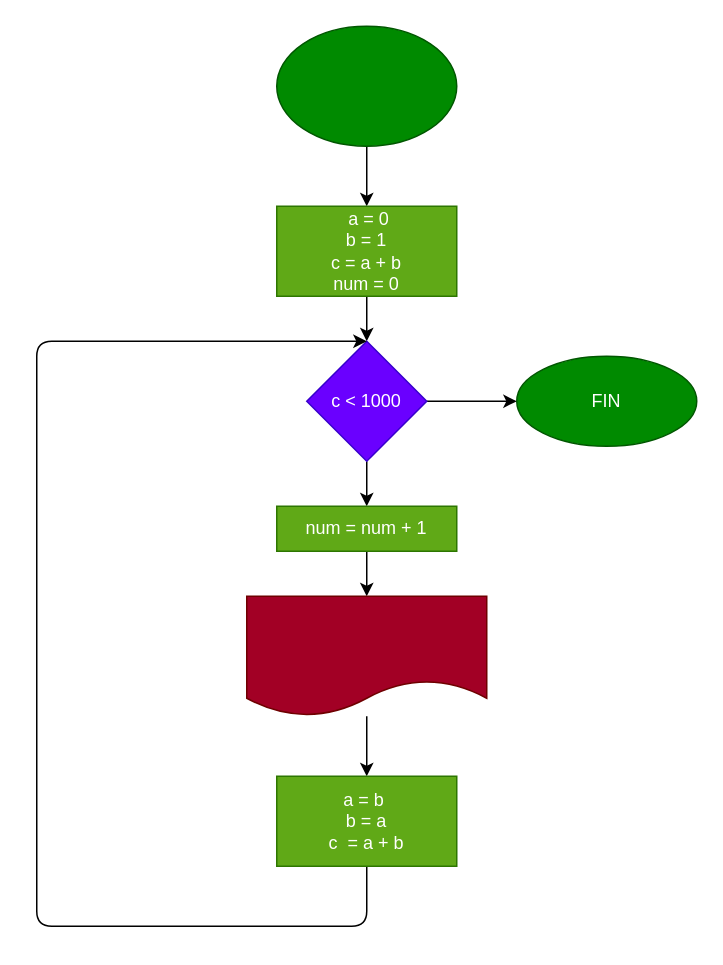
Image size: 723x965. Some labels were removed from this diagram. Each missing label, with the centre of its shape:
El numero",c,"es el",num,"en a serie fibonacci: point (366, 655)
INICIO: point (366, 85)
